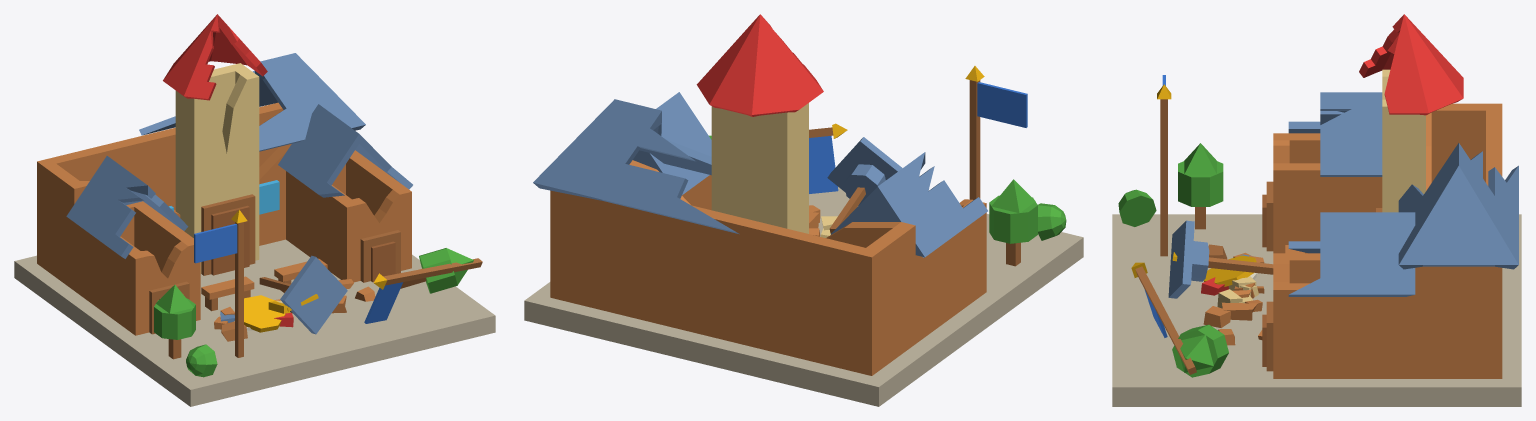
File: university_t2_v2_dmg1.glb
The picture shows the model from 3 angles, left to right: view 1: azimuth 30°, elevation 25°; view 2: azimuth 150°, elevation 25°; view 3: azimuth 270°, elevation 25°; orthographic projection. The views are drawn at different scales.
Visible parts, largest first — view 1: university_t2_v2_dmg1; view 2: university_t2_v2_dmg1; view 3: university_t2_v2_dmg1.
Part boxes in pixels (<box>): university_t2_v2_dmg1: <box>14,14,495,406</box>; university_t2_v2_dmg1: <box>524,14,1083,406</box>; university_t2_v2_dmg1: <box>1112,14,1521,406</box>.
Size of the model in its own units: 0.7992 by 0.62 by 0.75.
1 material, 1 textured.
